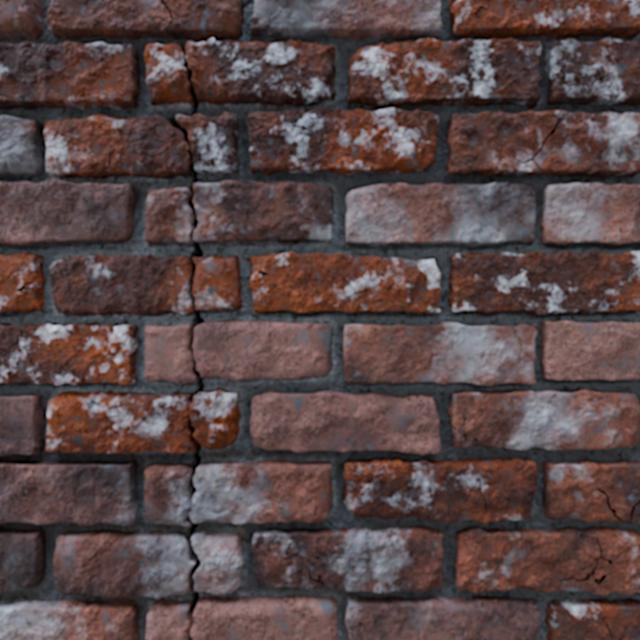broken_brick: (44, 112, 239, 178), (46, 388, 240, 453), (144, 460, 332, 526), (144, 320, 331, 383), (49, 254, 241, 315), (186, 38, 335, 106), (53, 529, 192, 598), (193, 180, 333, 243), (190, 594, 338, 639), (191, 529, 243, 594), (144, 43, 194, 105), (144, 186, 192, 244), (145, 599, 190, 639)
crack: (250, 0, 639, 108), (342, 457, 538, 524), (252, 525, 443, 593), (446, 110, 639, 177), (246, 108, 438, 175), (454, 526, 639, 595), (448, 250, 639, 315), (345, 182, 535, 247), (342, 322, 537, 385), (250, 390, 440, 454), (448, 388, 639, 450), (249, 252, 440, 313), (0, 41, 139, 110), (0, 179, 136, 246), (0, 460, 139, 525), (344, 594, 541, 639), (0, 322, 137, 385), (47, 0, 251, 42), (545, 37, 639, 105), (542, 459, 639, 524), (539, 183, 639, 245), (540, 321, 639, 380), (0, 599, 140, 639), (186, 150, 205, 357), (545, 598, 639, 639), (0, 527, 45, 594), (0, 394, 44, 456), (0, 115, 44, 177), (0, 253, 45, 313), (184, 515, 201, 639), (0, 0, 43, 39), (180, 44, 198, 116), (187, 417, 202, 501), (165, 115, 191, 148), (187, 359, 204, 409), (101, 151, 113, 173), (119, 129, 122, 139)
